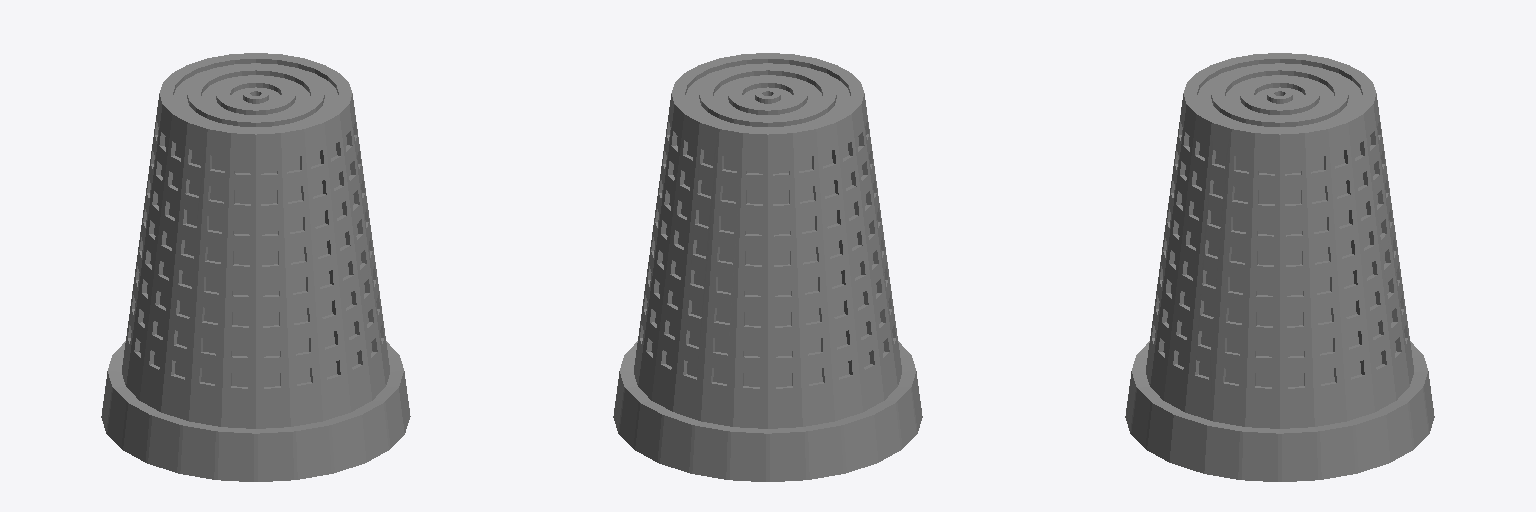
Rendered from Thimble.obj.
3 views of the same model, side by side, from view 1: azimuth 30°, elevation 25°; view 2: azimuth 150°, elevation 25°; view 3: azimuth 270°, elevation 25° (orthographic).
Parts seen in each view (by area): view 1: Thimble_Monopoly.003; view 2: Thimble_Monopoly.003; view 3: Thimble_Monopoly.003.
Part boxes in pixels (x1,y1,x2,y2): Thimble_Monopoly.003: (101,53,410,481); Thimble_Monopoly.003: (613,53,922,481); Thimble_Monopoly.003: (1125,53,1434,481).
Size of the model in its own units: 1.53 by 1.77 by 1.53.